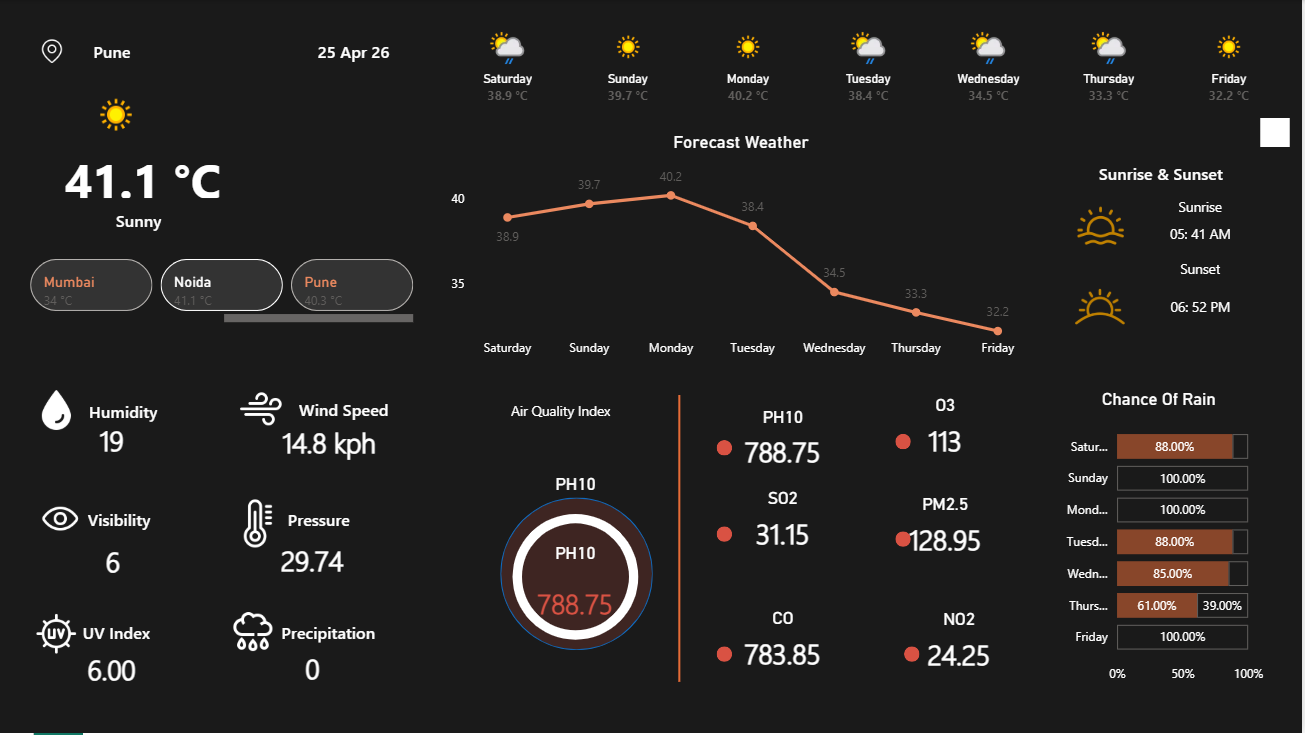

This screenshot's page, from the dashboard's own definition file:
{"tool":"powerbi","page":{"name":"Page 1","canvas":[1280,720],"ordinal":0},"visuals":[{"type":"shape","box":[491.7,488.9,149.9,149.9],"z":0},{"type":"advancedSlicerVisual","fields":{"Values":["Locations.location.name"]},"box":[25.8,249.2,386.7,74.5],"z":1000},{"type":"shape","box":[25.6,144.6,230.5,49.7],"z":2000},{"type":"shape","box":[25.6,194.3,222.9,43.7],"z":3000},{"type":"shape","box":[201.8,28.6,182.3,43.7],"z":4000},{"type":"shape","box":[55.7,28.6,111.5,43.7],"z":5000},{"type":"image","box":[36.1,28.6,33.1,43.7],"z":6000},{"type":"cardVisual","fields":{"Data":["Min(current.current.condition.icon)"]},"box":[55.9,61.6,111.7,107.4],"z":7000},{"type":"image","box":[25.8,484,68.7,51.6],"z":8000},{"type":"shape","box":[87.4,488.3,181.9,43],"z":9000},{"type":"image","box":[30.1,582.9,51.6,78.8],"z":10000},{"type":"image","box":[230.6,372.3,53,58.7],"z":11000},{"type":"image","box":[30.1,370.9,51.6,64.4],"z":12000},{"type":"image","box":[226.3,482.6,57.3,63],"z":13000},{"type":"image","box":[220.5,582.9,57.3,74.5],"z":14000},{"type":"shape","box":[81.6,598.6,181.9,43],"z":15000},{"type":"shape","box":[277.8,598.6,181.9,43],"z":16000},{"type":"shape","box":[295,380.9,181.9,43],"z":17000},{"type":"shape","box":[283.6,488.3,181.9,43],"z":18000},{"type":"shape","box":[87.7,367.3,98.1,72.9],"z":19000},{"type":"card","fields":{"Values":["Sum(current.current.humidity)"]},"box":[35.7,358.4,150.2,150.2],"z":20000},{"type":"card","fields":{"Values":["Sum(current.current.vis_km)"]},"box":[37.2,477.3,150.2,150.2],"z":21000},{"type":"card","fields":{"Values":["Sum(current.current.uv)"]},"box":[35.7,596.3,150.2,123.4],"z":22000},{"type":"card","fields":{"Values":["Sum(current.current.pressure_in)"]},"box":[231.6,476.1,151.2,151.2],"z":23000},{"type":"card","fields":{"Values":["_Measures.Wind_speed"]},"box":[249.2,360.9,150.4,150.4],"z":24000},{"type":"card","fields":{"Values":["Sum(current.current.precip_in)"]},"box":[233.2,604.8,149.6,104.5],"z":25000},{"type":"advancedSlicerVisual","fields":{"Values":["Forecast_Day.Day_name"]},"box":[439.1,19.3,830,96.5],"z":26000},{"type":"lineChart","title":"Forecast Weather","fields":{"Y":["Sum(Forecast_Day.forecast.forecastday.day.avgtemp_c)"],"Category":["Forecast_Day.Day_name"]},"box":[438.7,129.4,578.4,230.5],"z":27000},{"type":"shape","box":[1039.3,132.5,202.5,73.6],"z":28000},{"type":"shape","box":[1141.1,187.7,76.1,83.4],"z":29000},{"type":"shape","box":[1141.1,187.7,76.1,28.2],"z":30000},{"type":"shape","box":[1141.1,285.9,76.1,28.2],"z":31000},{"type":"shape","box":[1141.1,249.1,76.1,28.2],"z":32000},{"type":"image","box":[1030.7,263.8,100.6,74.8],"z":33000},{"type":"image","box":[1025.8,193.9,110.4,55.2],"z":34000},{"type":"hundredPercentStackedBarChart","title":"Chance Of Rain","fields":{"Category":["Forecast_Day.Day_name"],"Y":["Sum(Forecast_Day.forecast.forecastday.day.daily_chance_of_rain)","_Measures.Left_value_rain"]},"box":[1031,381,215.7,298.4],"z":35000},{"type":"shape","box":[439.8,381,224.1,43.4],"z":36000},{"type":"card","title":"O3","fields":{"Values":["Sum(current.current.air_quality.o3)"]},"box":[854.5,388,149.9,72.8],"z":37000},{"type":"card","title":"CO","fields":{"Values":["Sum(current.current.air_quality.co)"]},"box":[694.8,596.7,149.9,72.8],"z":38000},{"type":"card","title":"SO2","fields":{"Values":["Sum(current.current.air_quality.so2)"]},"box":[694.8,479.1,149.9,72.8],"z":39000},{"type":"card","title":"PH10","fields":{"Values":["Sum(current.current.air_quality.pm10)"]},"box":[694.8,399.2,149.9,72.8],"z":40000},{"type":"card","title":"NO2","fields":{"Values":["Sum(current.current.air_quality.no2)"]},"box":[867.1,598.1,149.9,72.8],"z":41000},{"type":"card","title":"PM2.5","fields":{"Values":["Sum(current.current.air_quality.pm2_5)"]},"box":[854.5,484.7,149.9,72.8],"z":42000},{"type":"shape","box":[704.6,431.4,15.4,15.4],"z":43000},{"type":"shape","box":[704.6,516.9,15.4,15.4],"z":44000},{"type":"shape","box":[879.7,521.1,15.4,15.4],"z":45000},{"type":"shape","box":[704.6,634.5,15.4,15.4],"z":46000},{"type":"shape","box":[888.1,634.5,15.4,15.4],"z":47000},{"type":"shape","box":[879.7,425.8,15.4,15.4],"z":48000},{"type":"shape","box":[640.1,388,54.6,281.6],"z":49000},{"type":"card","title":"PH10","fields":{"Values":["Sum(current.current.air_quality.pm10)"]},"box":[490.3,532.3,149.9,102.3],"z":50000},{"type":"donutChart","title":"PH10","fields":{"Y":["Sum(current.current.air_quality.pm10)","_Measures.Left_value_PM"]},"box":[453.8,465,224.1,183.5],"z":51000}]}

Visuals, with their boxes in screenshot pixels (x1, y1, x2, y2), scaled from the page's 1280x720 canvas onto the 1305x735 screenshot:
shape: [501,499,654,652]
advancedSlicerVisual - Locations.location.name: [26,254,421,330]
shape: [26,148,261,198]
shape: [26,198,253,243]
shape: [206,29,392,74]
shape: [57,29,170,74]
image: [37,29,71,74]
cardVisual - Min(current.current.condition.icon): [57,63,171,173]
image: [26,494,96,547]
shape: [89,498,275,542]
image: [31,595,83,675]
image: [235,380,289,440]
image: [31,379,83,444]
image: [231,493,289,557]
image: [225,595,283,671]
shape: [83,611,269,655]
shape: [283,611,469,655]
shape: [301,389,486,433]
shape: [289,498,475,542]
shape: [89,375,189,449]
card - Sum(current.current.humidity): [36,366,190,519]
card - Sum(current.current.vis_km): [38,487,191,641]
card - Sum(current.current.uv): [36,609,190,734]
card - Sum(current.current.pressure_in): [236,486,390,640]
card - _Measures.Wind_speed: [254,368,407,522]
card - Sum(current.current.precip_in): [238,617,390,724]
advancedSlicerVisual - Forecast_Day.Day_name: [448,20,1294,118]
"Forecast Weather" lineChart: [447,132,1037,367]
shape: [1060,135,1266,210]
shape: [1163,192,1241,277]
shape: [1163,192,1241,220]
shape: [1163,292,1241,321]
shape: [1163,254,1241,283]
image: [1051,269,1153,346]
image: [1046,198,1158,254]
"Chance Of Rain" hundredPercentStackedBarChart: [1051,389,1271,694]
shape: [448,389,677,433]
"O3" card: [871,396,1024,470]
"CO" card: [708,609,861,683]
"SO2" card: [708,489,861,563]
"PH10" card: [708,408,861,482]
"NO2" card: [884,611,1037,685]
"PM2.5" card: [871,495,1024,569]
shape: [718,440,734,456]
shape: [718,528,734,543]
shape: [897,532,913,548]
shape: [718,648,734,663]
shape: [905,648,921,663]
shape: [897,435,913,450]
shape: [653,396,708,684]
"PH10" card: [500,543,653,648]
"PH10" donutChart: [463,475,691,662]
